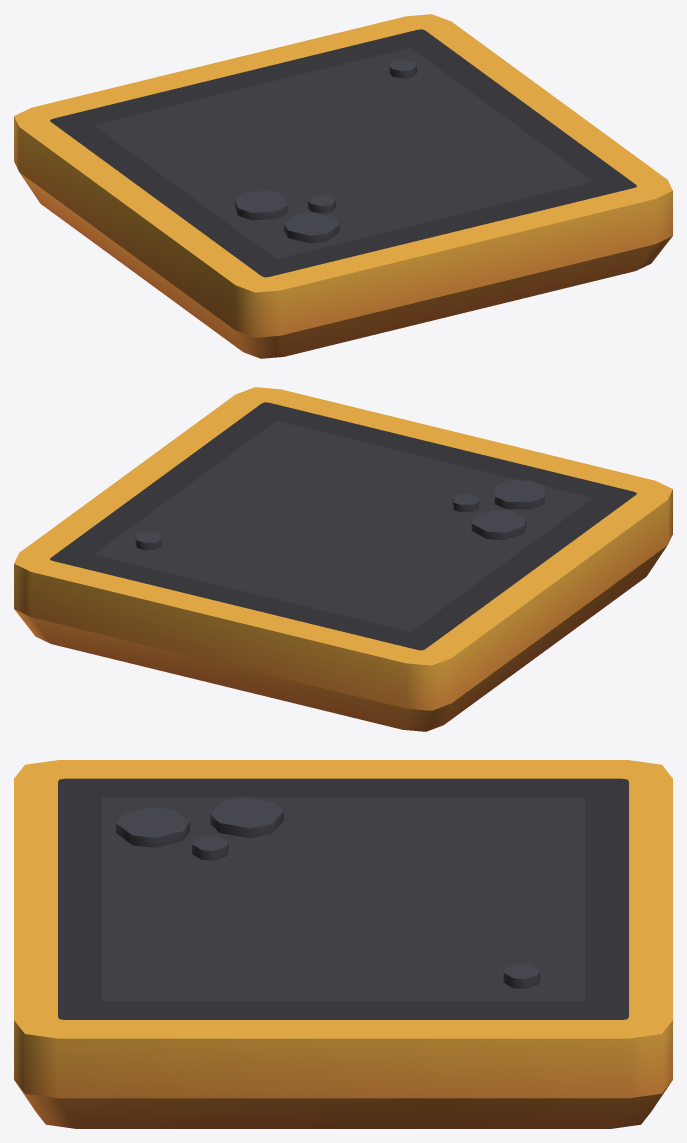
File: PlatformMedium.fbx
3 views of the same model, one above another, from view 1: azimuth 30°, elevation 25°; view 2: azimuth 150°, elevation 25°; view 3: azimuth 270°, elevation 25° (orthographic). The views are drawn at different scales.
Parts seen in each view (by area): view 1: platform-medium; view 2: platform-medium; view 3: platform-medium.
Boxes of the visible parts, x1,y1,x2,y2 form: platform-medium: (14,14,672,358); platform-medium: (14,387,672,731); platform-medium: (14,760,672,1128).
Size of the model in its own units: 300 by 55 by 300.
